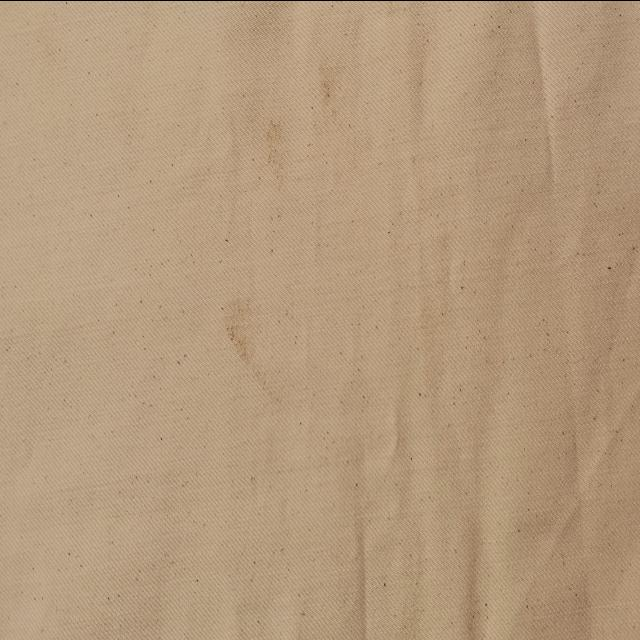taaaches: (212, 286, 280, 410), (258, 111, 288, 186), (316, 50, 334, 107)
